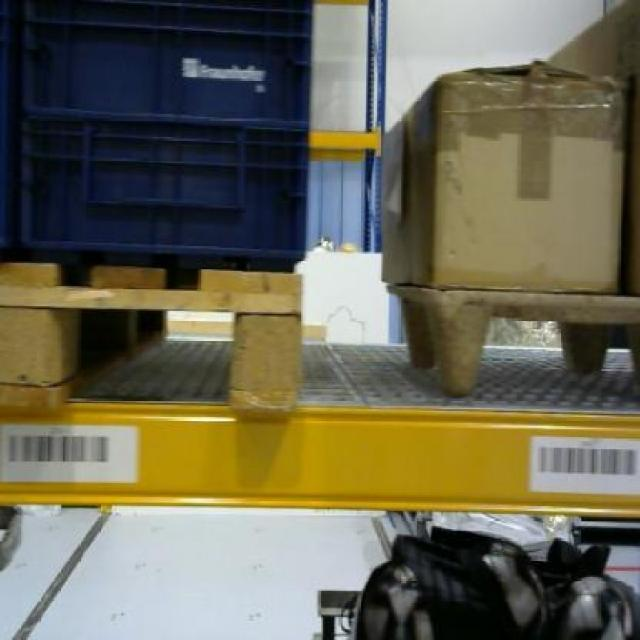box: (378, 58, 634, 286)
